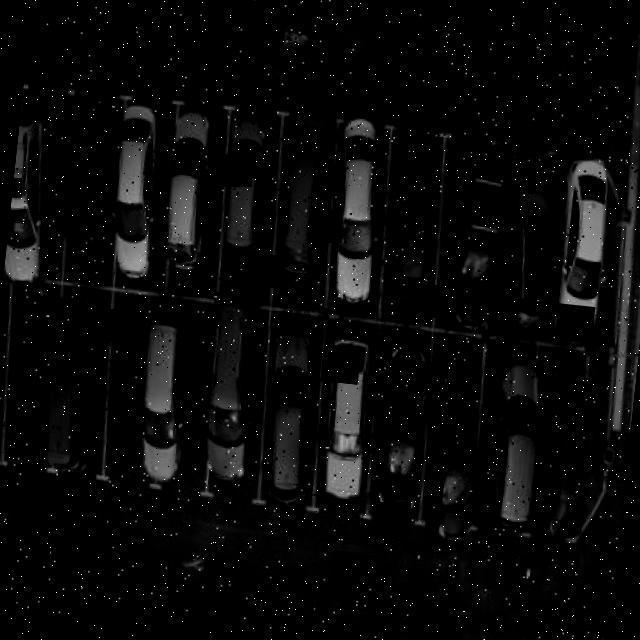car: (539, 132, 640, 366), (308, 92, 408, 325), (362, 94, 461, 316), (431, 115, 524, 348), (256, 69, 346, 300), (481, 130, 576, 348), (362, 324, 452, 554), (473, 351, 562, 572), (301, 324, 388, 534), (41, 42, 130, 245), (524, 354, 612, 559), (246, 312, 326, 530), (413, 355, 499, 552), (38, 284, 119, 483), (100, 96, 178, 302), (193, 294, 272, 496), (128, 309, 208, 506), (148, 99, 224, 285), (207, 106, 284, 282), (1, 110, 67, 300), (0, 275, 17, 472)
free: (0, 291, 69, 476), (92, 308, 159, 492)
